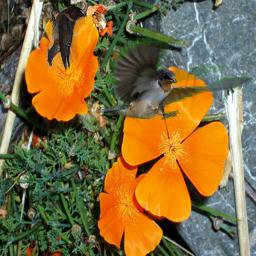Swallow: (98, 38, 252, 120), (46, 6, 85, 70)
